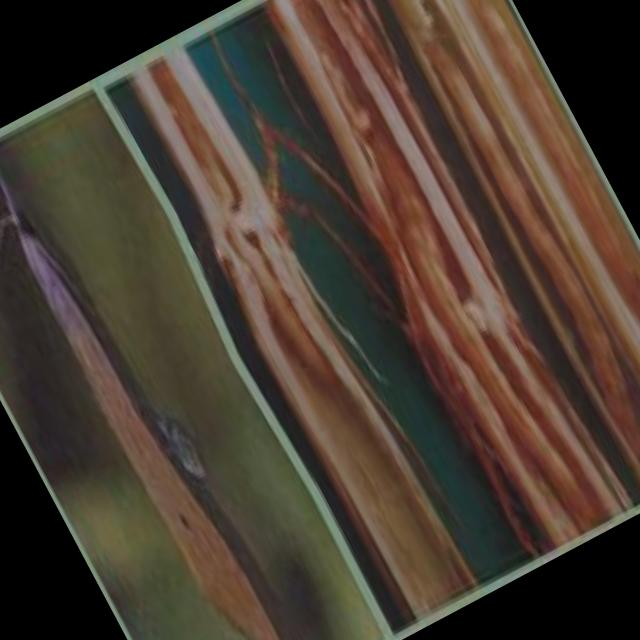stem-borer: (0, 126, 297, 640)
